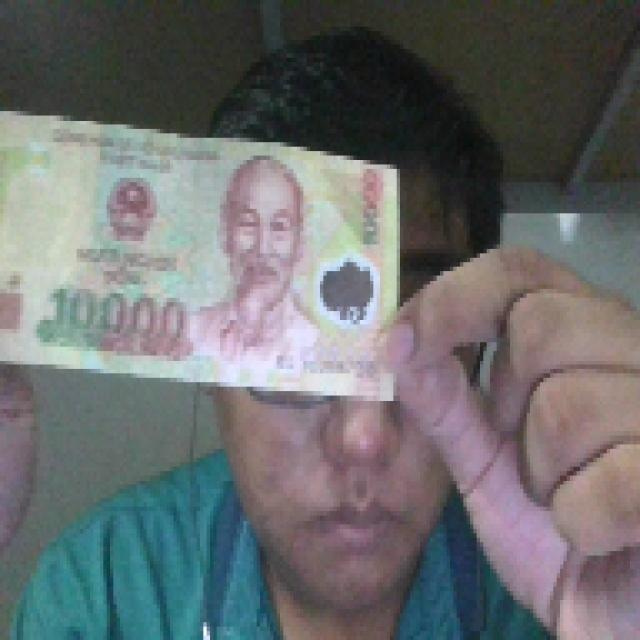10 000 VND: (0, 103, 407, 404)
